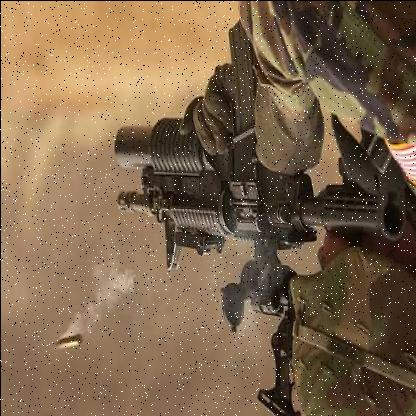rifle: (80, 52, 416, 290)
